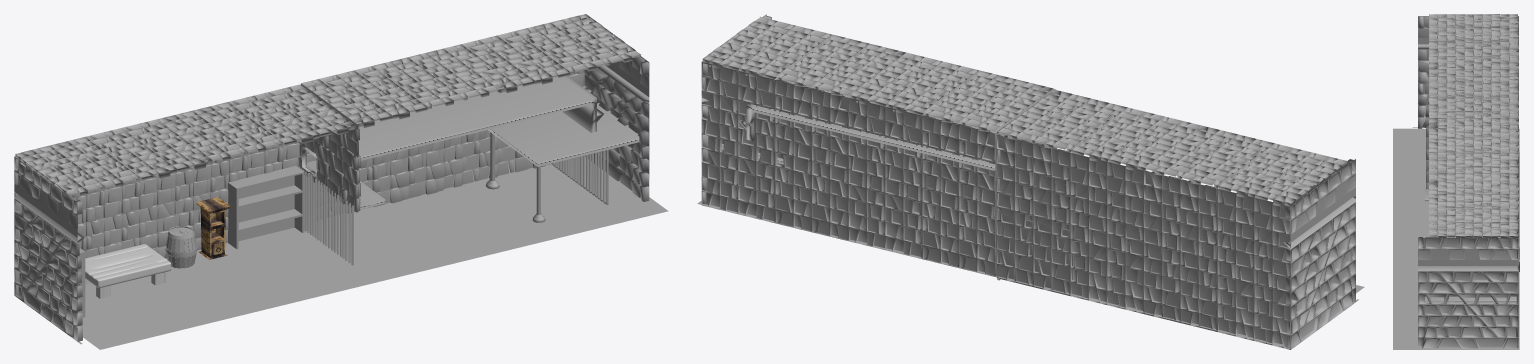
The model's file is sueloytecho.fbx.
3 renders of one model, left to right at view 1: azimuth 30°, elevation 25°; view 2: azimuth 150°, elevation 25°; view 3: azimuth 270°, elevation 25°, orthographic. The views are drawn at different scales.
Parts seen in each view (by area): view 1: polySurface14, pPlane9, polySurface4, polySurface5, estanteria1, polySurface6, polySurface1, table, polySurface8, Armario2, pCylinder3, polySurface7; view 2: polySurface14, polySurface4, polySurface5, estanteria1, pPlane9; view 3: polySurface4, polySurface14, pPlane9, polySurface6, polySurface5.
Boxes of the visible parts, x1,y1,x2,y2 form: polySurface14: [14, 84, 358, 344]; pPlane9: [81, 156, 668, 349]; polySurface4: [300, 14, 649, 220]; polySurface5: [358, 76, 603, 160]; estanteria1: [228, 166, 304, 248]; polySurface6: [488, 102, 639, 166]; polySurface1: [298, 166, 353, 265]; table: [85, 244, 171, 298]; polySurface8: [551, 149, 608, 204]; Armario2: [196, 197, 230, 259]; pCylinder3: [165, 226, 197, 268]; polySurface7: [305, 160, 385, 209]; polySurface14: [996, 89, 1358, 349]; polySurface4: [701, 14, 1055, 276]; polySurface5: [739, 80, 996, 170]; estanteria1: [1002, 214, 1073, 288]; pPlane9: [697, 201, 1364, 346]; polySurface4: [1418, 125, 1518, 348]; polySurface14: [1412, 14, 1518, 128]; pPlane9: [1393, 128, 1519, 349]; polySurface6: [1425, 296, 1516, 303]; polySurface5: [1431, 151, 1519, 271].
Bounding box in the file's own units: 110 × 26.35 × 26.42.
